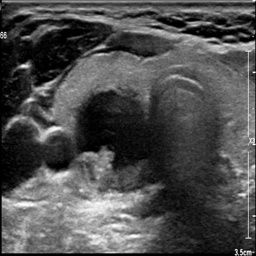mass: (74, 88, 147, 191)
